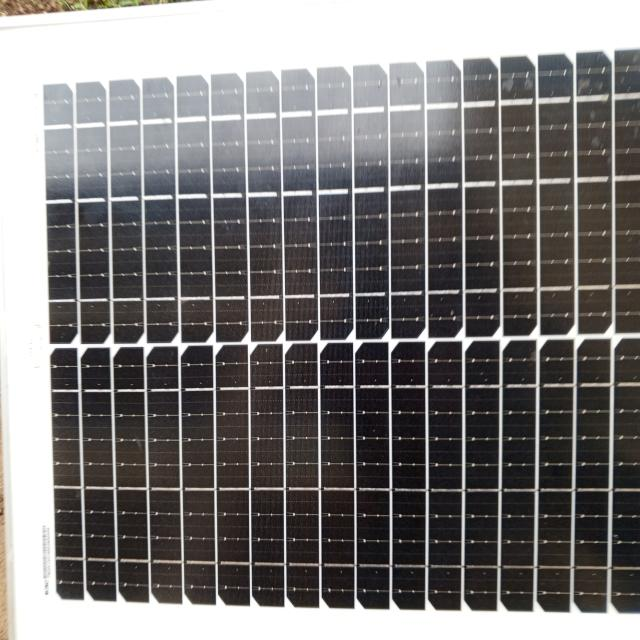Clean: (19, 42, 640, 627)
